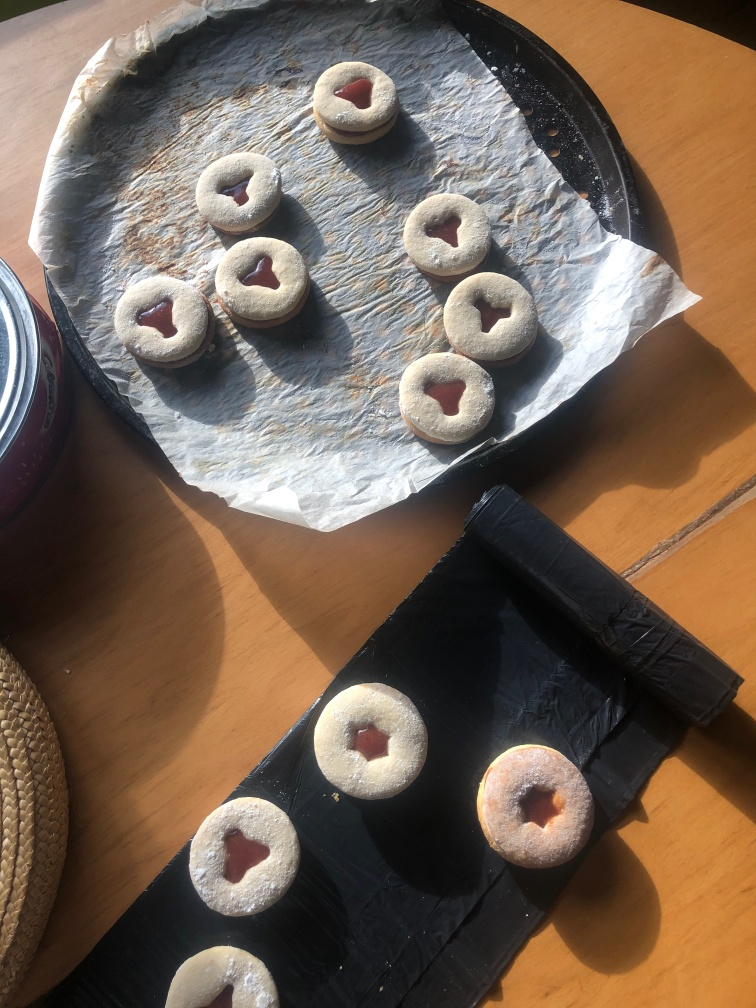christmas shortbread with jam: (477, 742, 595, 866), (315, 682, 432, 807), (186, 794, 303, 914), (111, 271, 213, 372), (210, 233, 311, 333), (444, 268, 540, 367), (400, 353, 499, 445), (310, 57, 405, 149), (401, 188, 495, 278), (158, 945, 283, 1008), (192, 149, 281, 233)
